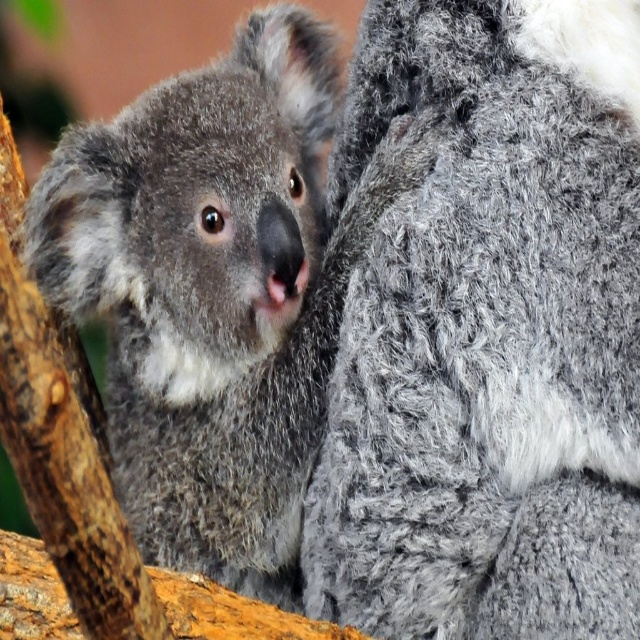Koala: (9, 2, 639, 640)
